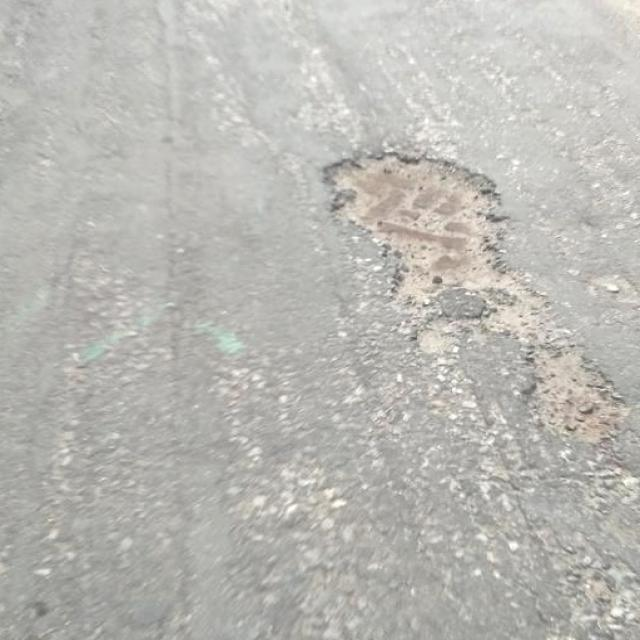road-pothole: (309, 147, 632, 451)
